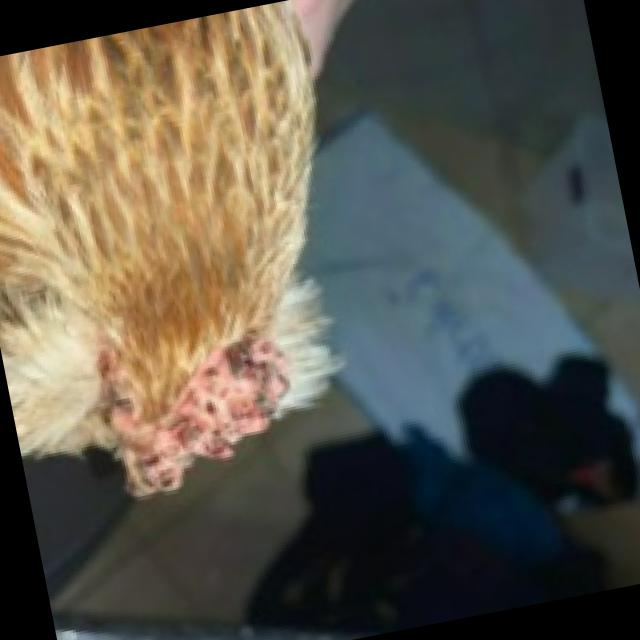Fowlpox: (103, 306, 320, 524)
